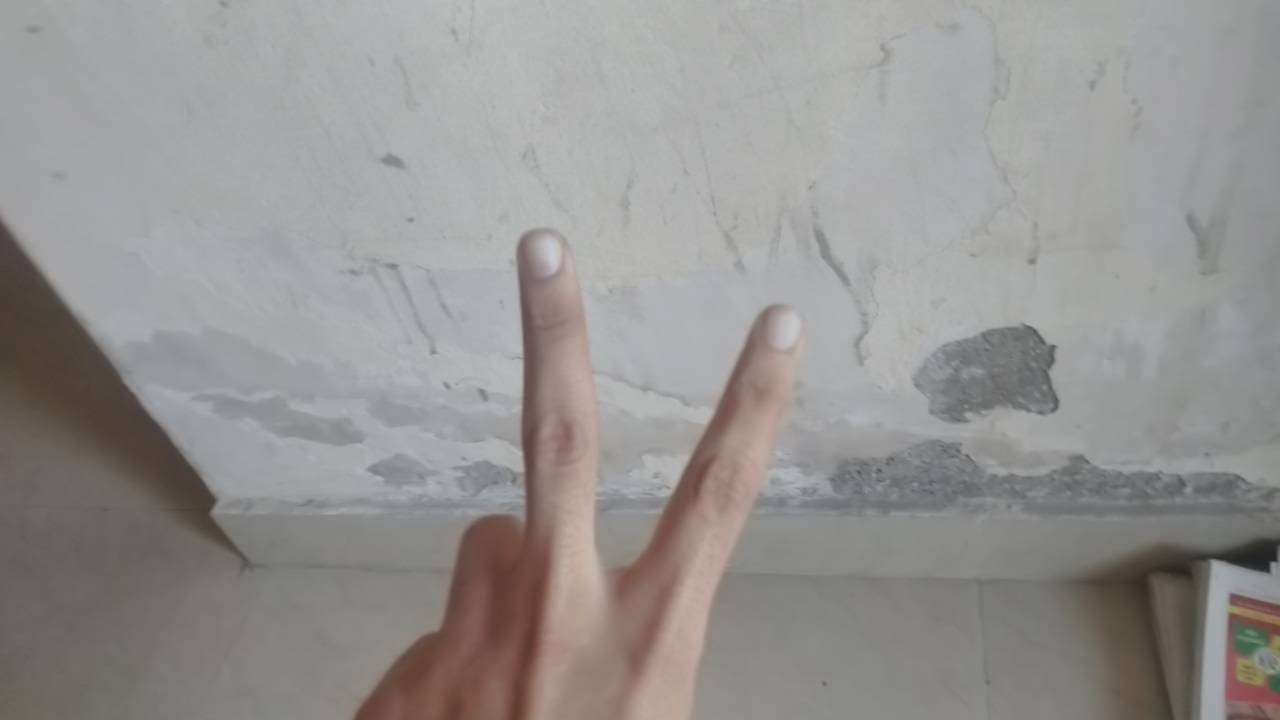fingertip: (512, 224, 580, 288), (744, 302, 814, 364)
